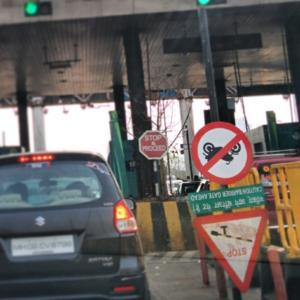Vehicle-registration-plate: (13, 233, 76, 258)
